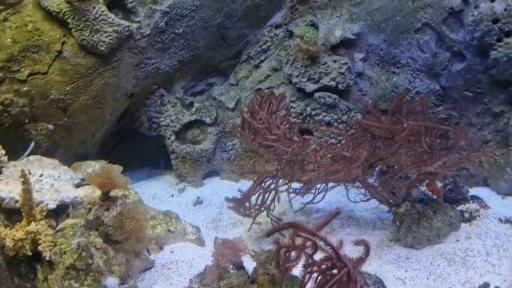Fish: (429, 186, 443, 199)
